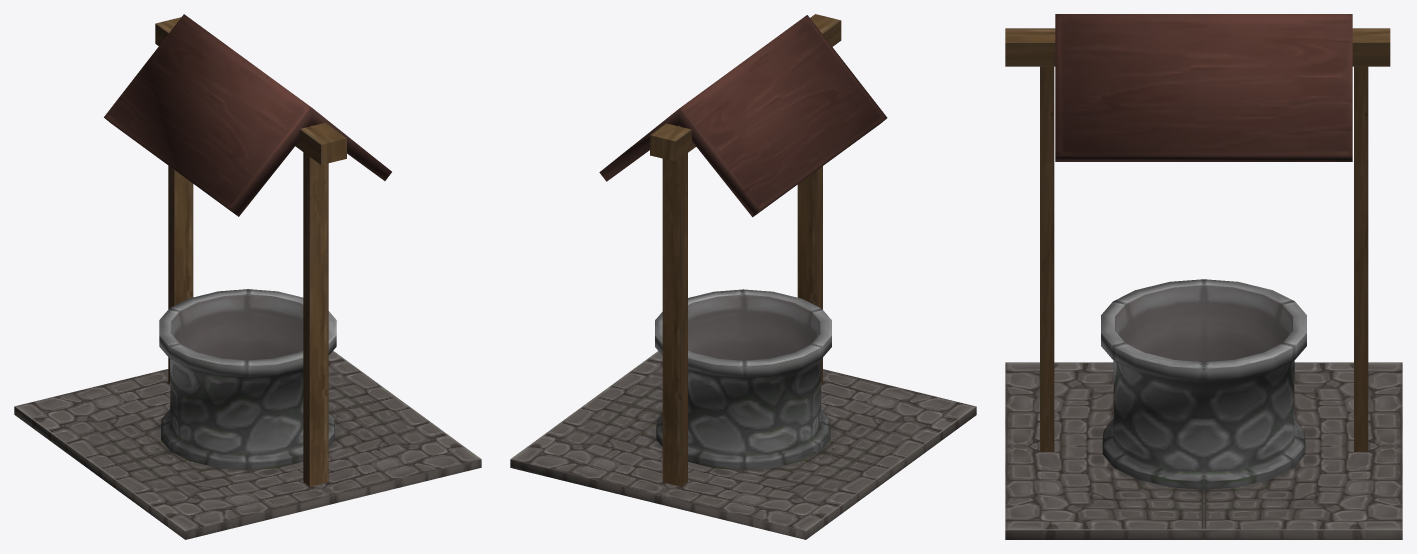
File: OutdoorM_Well.FBX
The picture shows the model from 3 angles, left to right: view 1: azimuth 30°, elevation 25°; view 2: azimuth 150°, elevation 25°; view 3: azimuth 270°, elevation 25°; orthographic projection. The views are drawn at different scales.
Visible parts, largest first — view 1: OutdoorM_Well; view 2: OutdoorM_Well; view 3: OutdoorM_Well.
Part boxes in pixels (left/top/right/bottom): OutdoorM_Well: left=14, top=14, right=481, bottom=539; OutdoorM_Well: left=510, top=14, right=976, bottom=539; OutdoorM_Well: left=1005, top=14, right=1402, bottom=539.
Size of the model in its own units: 26.14 by 32.07 by 26.14.
